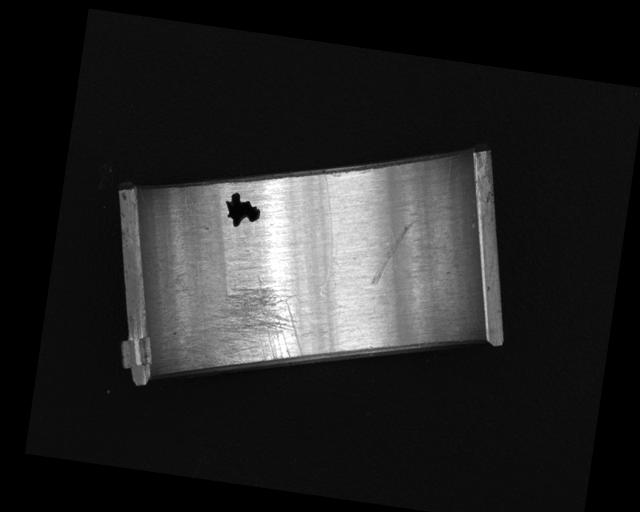blot: (221, 189, 263, 230)
nick: (306, 172, 347, 296), (370, 214, 415, 290)
scratch: (184, 266, 313, 385)
